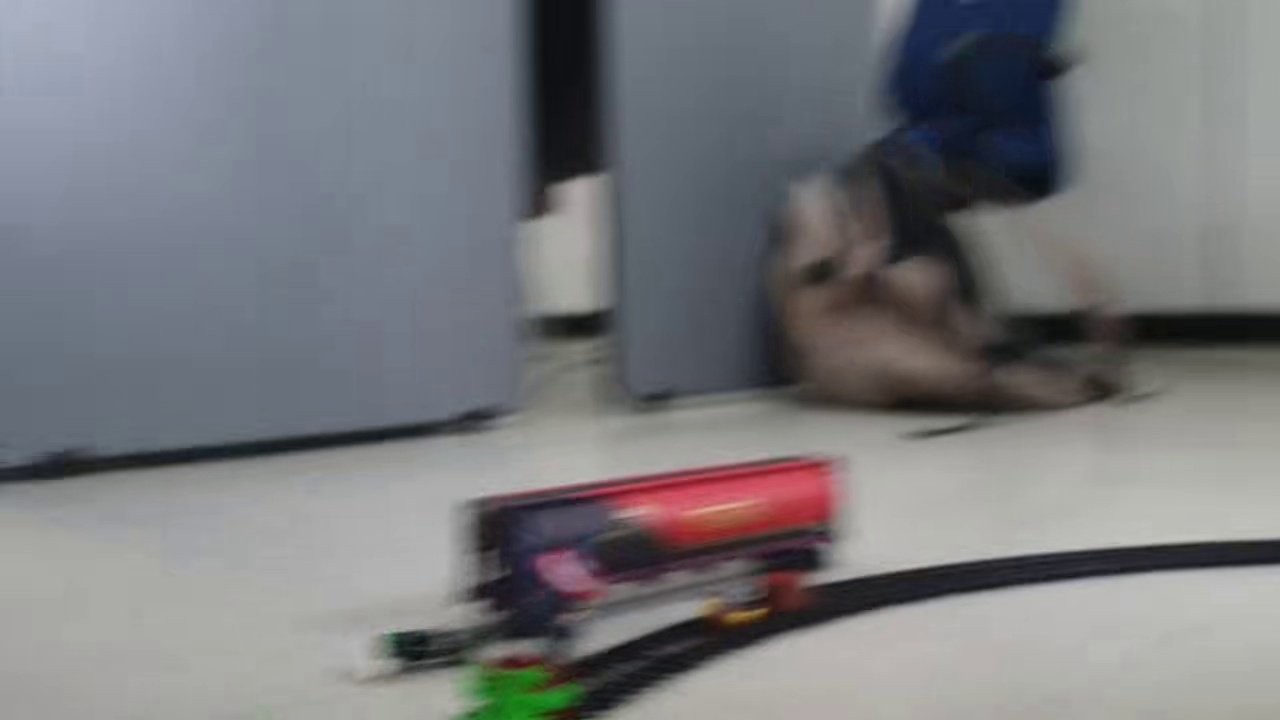people: (496, 508, 606, 641), (351, 624, 484, 676), (694, 571, 802, 626)
tree: (454, 666, 586, 720)
